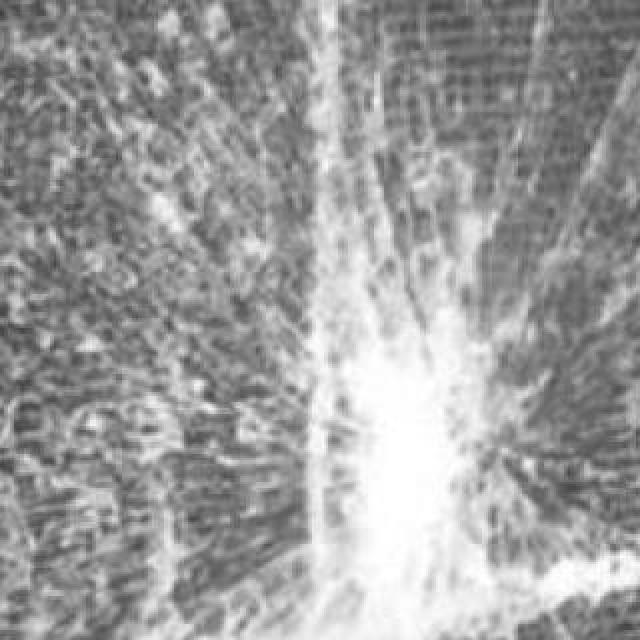Physical-damage: (8, 8, 633, 637)
